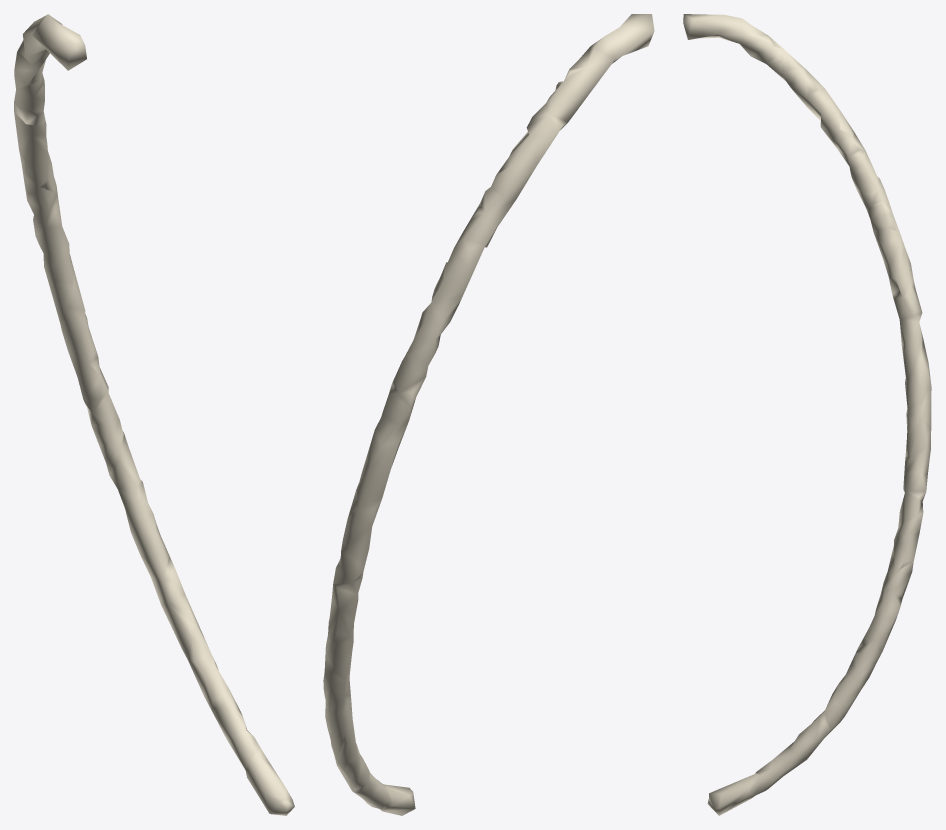
The model's file is rib_7_r.glb.
3 views of the same model, side by side, from view 1: azimuth 30°, elevation 25°; view 2: azimuth 150°, elevation 25°; view 3: azimuth 270°, elevation 25° (orthographic). The views are drawn at different scales.
Parts seen in each view (by area): view 1: geometry_0; view 2: geometry_0; view 3: geometry_0.
Part boxes in pixels (x1,y1,x2,y2): geometry_0: (14, 14, 294, 815); geometry_0: (323, 14, 654, 815); geometry_0: (683, 14, 931, 815).
Size of the model in its own units: 0.4107 by 1.31 by 0.4157.
